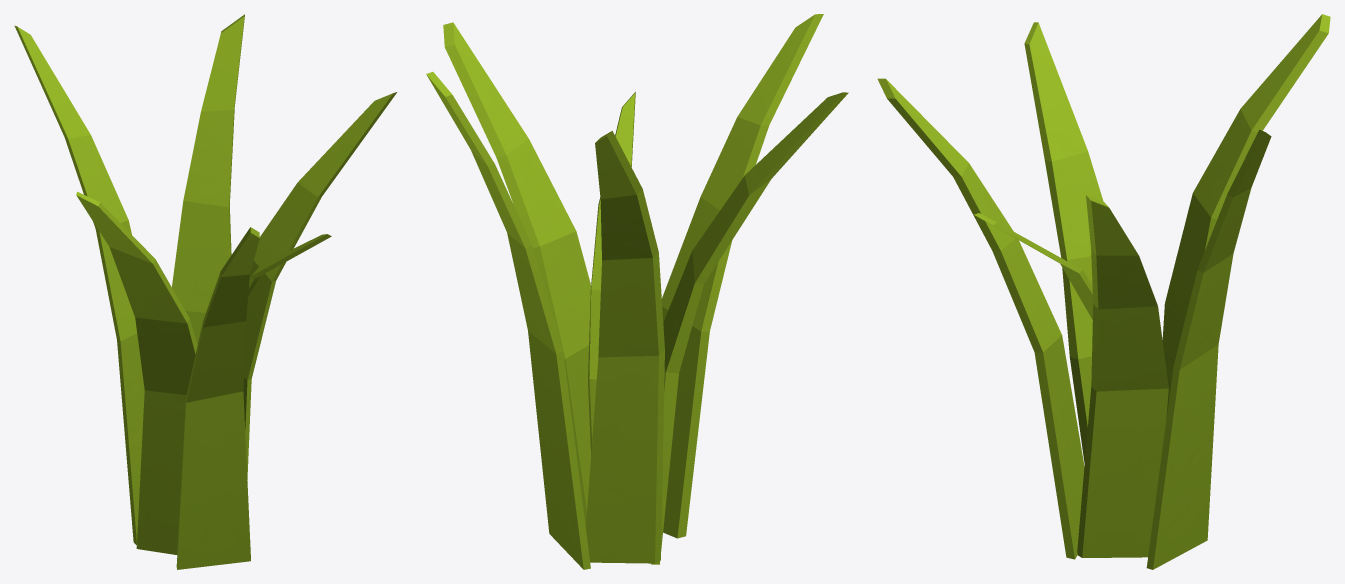
Rendered from grass.glb.
The picture shows the model from 3 angles, left to right: view 1: azimuth 30°, elevation 25°; view 2: azimuth 150°, elevation 25°; view 3: azimuth 270°, elevation 25°; orthographic projection. The views are drawn at different scales.
Visible parts, largest first — view 1: Plane.004; view 2: Plane.004; view 3: Plane.004.
Boxes of the visible parts, x1,y1,x2,y2 form: Plane.004: (14,14,397,569); Plane.004: (426,14,848,569); Plane.004: (877,14,1330,569).
Bounding box in the file's own units: 0.1464 × 0.1891 × 0.159.
Materials: 1 (1 with a texture image).
